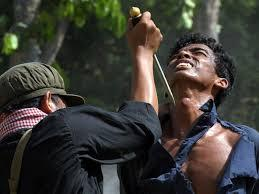Knife: (128, 4, 178, 107)
